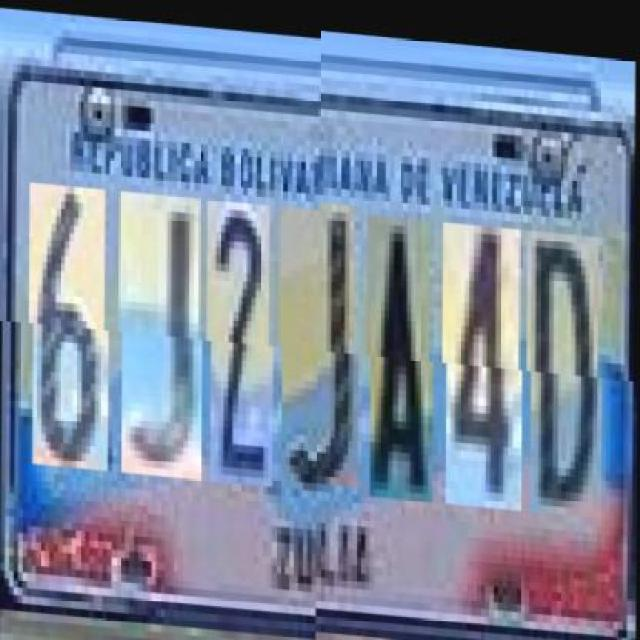2: (210, 196, 275, 482)
4: (446, 221, 523, 508)
6: (33, 182, 110, 469)
a: (370, 216, 435, 502)
d: (530, 228, 604, 514)
j: (121, 189, 204, 476), (282, 201, 358, 488)
